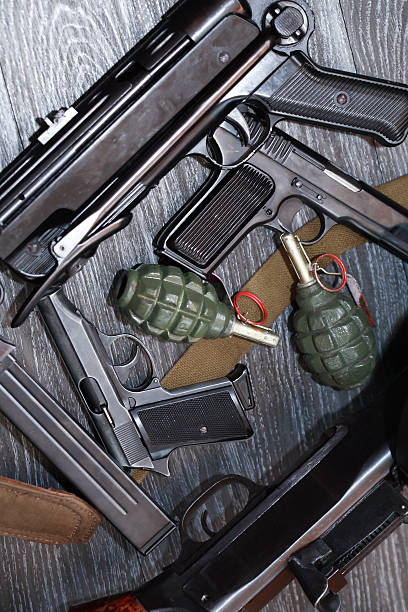e1: (278, 232, 377, 394), (113, 265, 280, 353)
